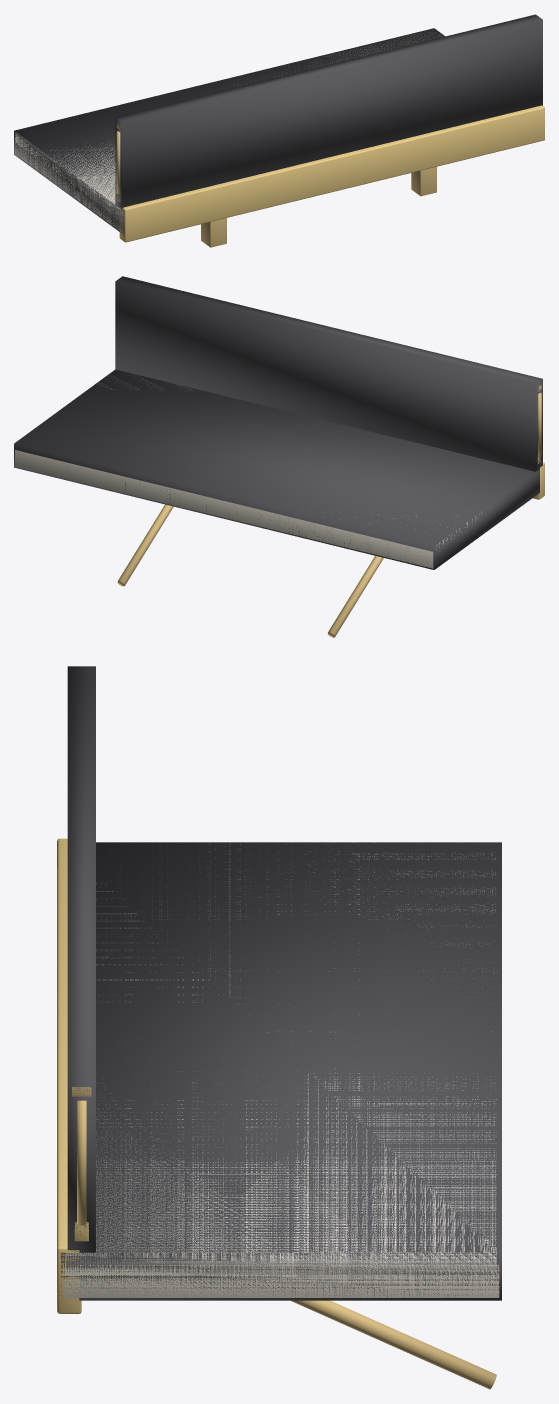
File: mezzanino.glb
3 renders of one model, top to bottom at view 1: azimuth 30°, elevation 25°; view 2: azimuth 150°, elevation 25°; view 3: azimuth 270°, elevation 25°, orthographic. The views are drawn at different scales.
Visible parts, largest first — view 1: COL_parapetto, fascia, COL_solaio, piano, solaio, mensola_0, mensola_1, par_fronte_bal_0; view 2: COL_solaio, COL_parapetto, solaio, mensola_d_0, mensola_d_1; view 3: COL_solaio, piano, COL_parapetto, solaio, fascia, mensola_d_1, par_fronte_bal_9.
Boxes of the visible parts, box(x1,y1,x2,y2) form: COL_parapetto: box(115, 14, 542, 208); fascia: box(119, 105, 544, 242); COL_solaio: box(14, 28, 445, 234); piano: box(15, 32, 444, 217); solaio: box(14, 139, 123, 232); mensola_0: box(201, 218, 226, 247); mensola_1: box(411, 166, 436, 196); par_fronte_bal_0: box(116, 130, 120, 193); COL_solaio: box(14, 369, 539, 569); COL_parapetto: box(115, 276, 542, 471); solaio: box(15, 450, 433, 568); mensola_d_0: box(327, 556, 383, 637); mensola_d_1: box(117, 504, 173, 586); COL_solaio: box(60, 842, 501, 1300); piano: box(66, 842, 496, 1274); COL_parapetto: box(67, 666, 95, 1252); solaio: box(63, 1264, 499, 1297); fascia: box(57, 838, 81, 1313); mensola_d_1: box(291, 1300, 496, 1389); par_fronte_bal_9: box(77, 1100, 86, 1225).
Bounding box in the file's own units: 5.56 × 2.59 × 2.52.
